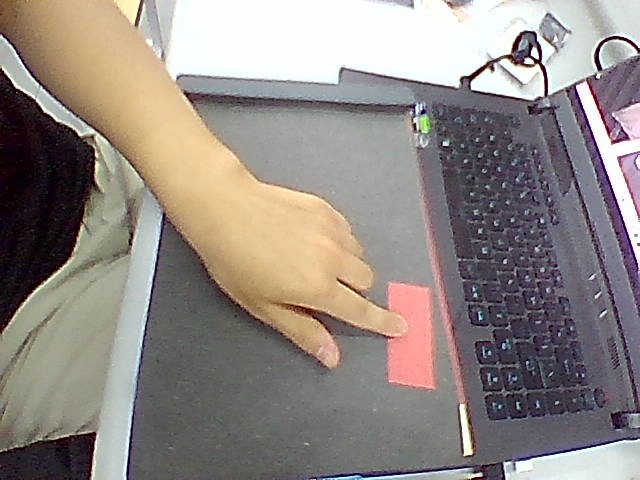card: (388, 283, 436, 389)
